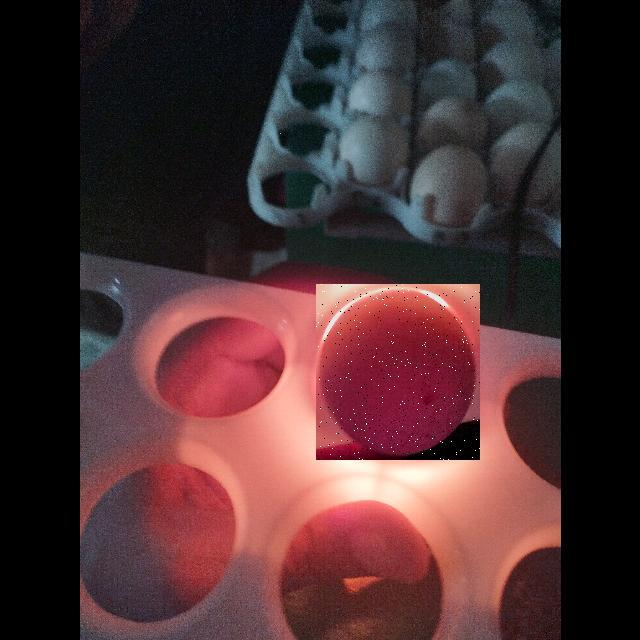Fertile: (316, 284, 480, 460)
